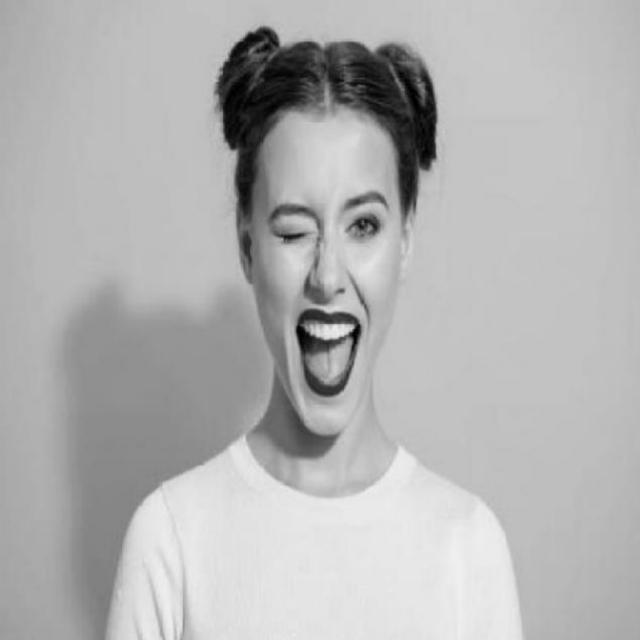Surprised: (226, 64, 425, 457)
